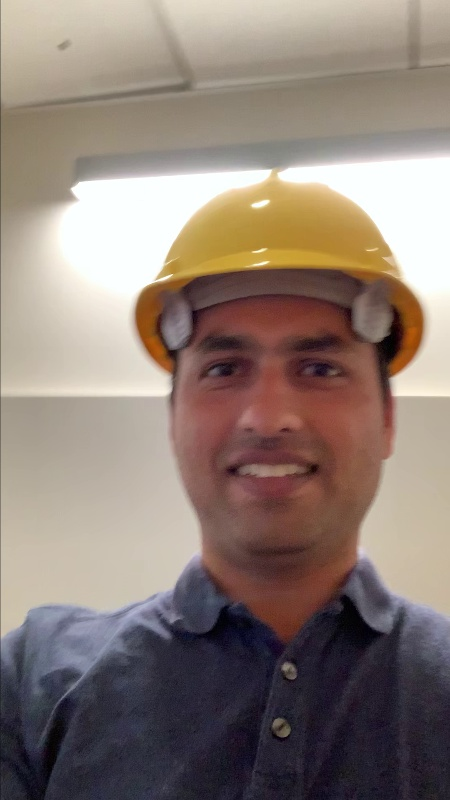helmet: (131, 170, 432, 345)
